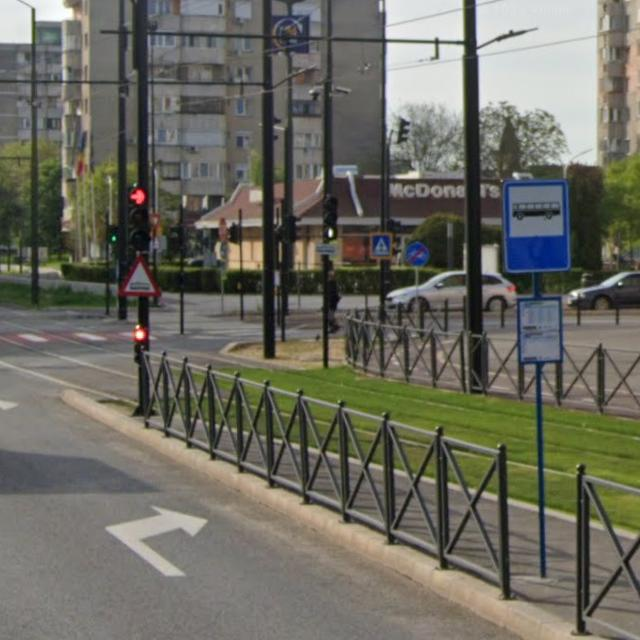info_bus_station: (504, 180, 570, 274)
info_crosswalk: (371, 233, 393, 258)
warn_tram: (118, 256, 162, 296)
